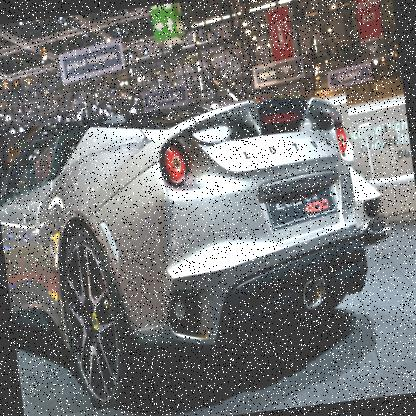Car: (0, 86, 383, 415), (348, 162, 390, 234)
